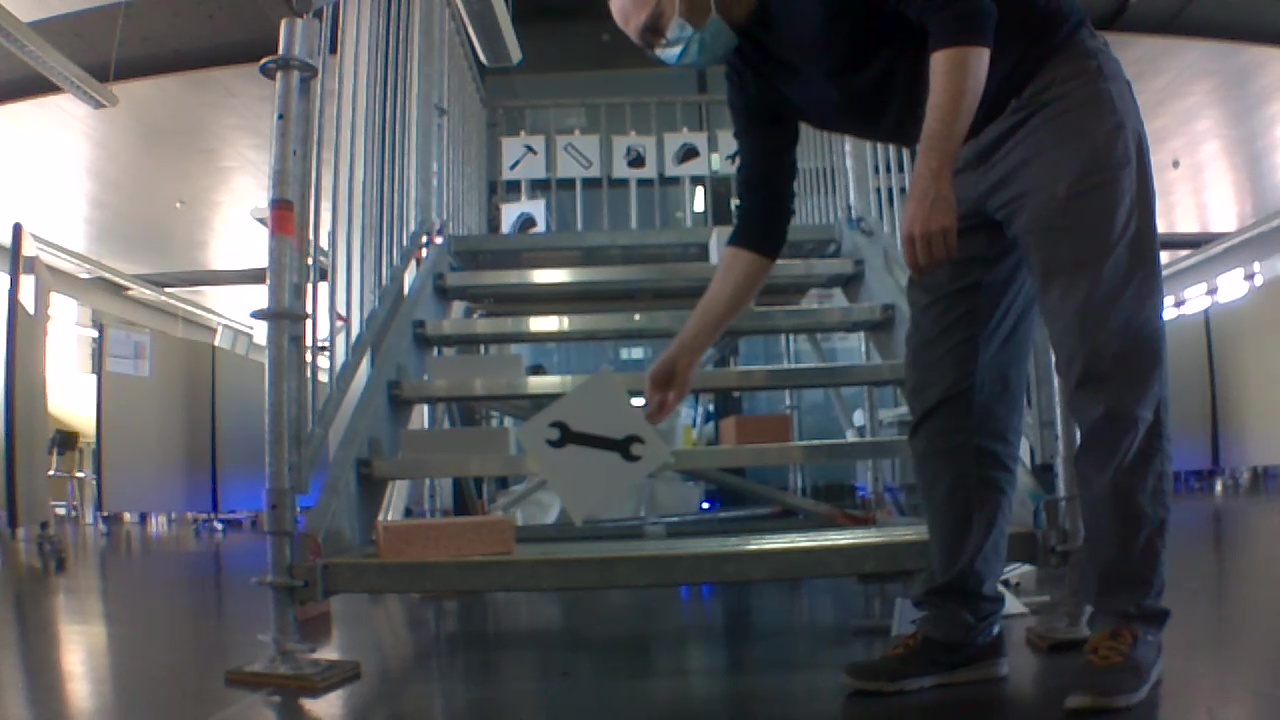brick: (375, 516, 511, 561), (401, 424, 515, 458), (428, 353, 524, 381), (718, 414, 793, 445)
bucket: (618, 141, 652, 171)
hammer: (503, 138, 540, 174)
ruler: (559, 139, 595, 171)
taco: (668, 139, 703, 171), (506, 208, 538, 232)
wrench: (537, 412, 651, 469)
